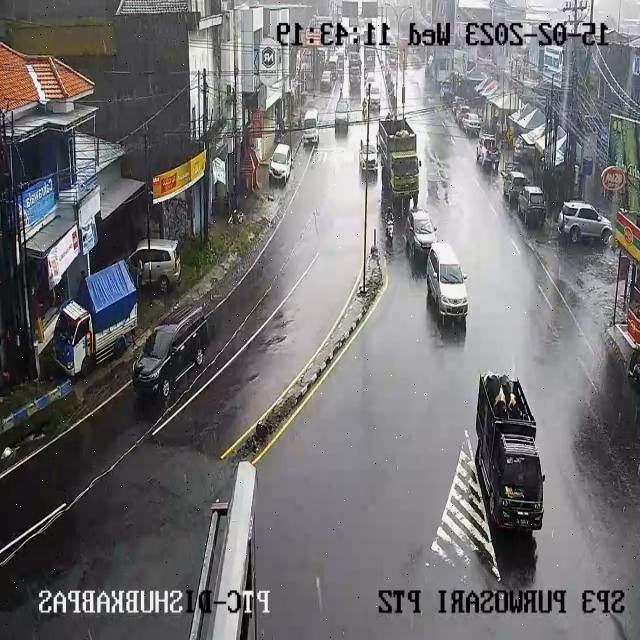Car: (132, 304, 210, 400), (424, 248, 470, 324), (129, 238, 183, 294), (558, 201, 613, 246), (404, 208, 437, 262), (516, 186, 546, 226), (269, 143, 293, 184), (501, 170, 530, 203), (476, 134, 499, 168), (302, 108, 320, 144), (359, 142, 379, 174), (334, 99, 350, 130), (460, 112, 481, 134), (368, 84, 381, 110), (455, 106, 471, 124), (452, 97, 466, 117), (321, 70, 334, 91), (387, 51, 398, 68), (329, 54, 339, 69), (365, 70, 375, 84), (335, 49, 345, 61)
Motorbike: (381, 208, 394, 246), (361, 99, 368, 126)
Truck: (471, 374, 538, 528), (53, 264, 138, 378), (377, 117, 419, 202)
